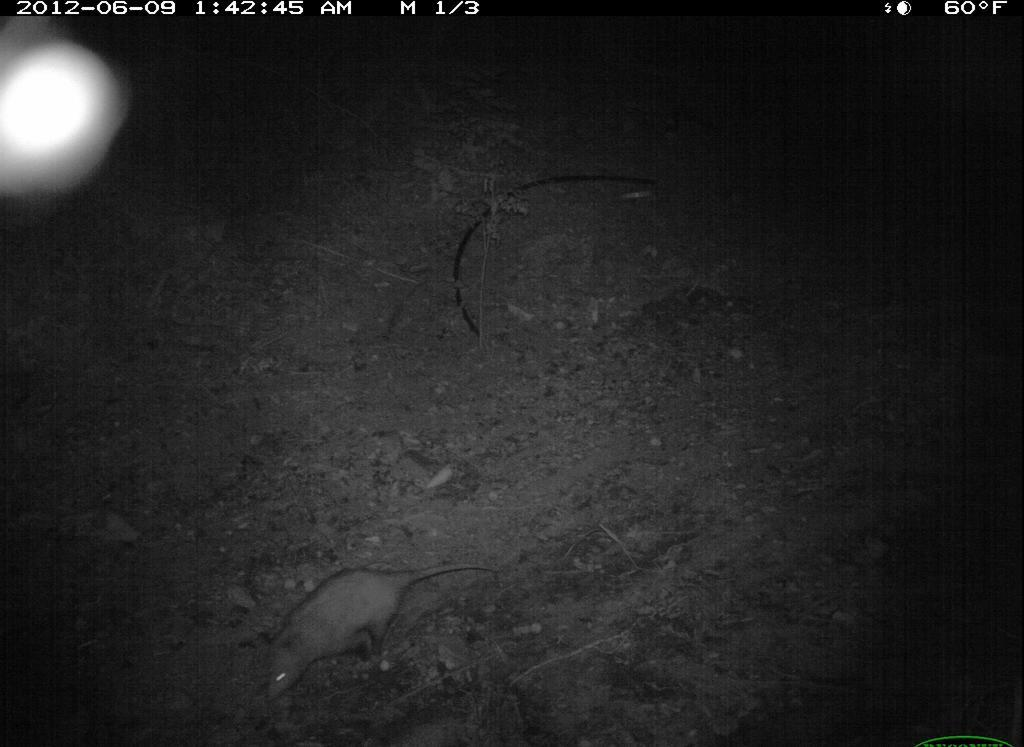opossum: (244, 547, 506, 707)
